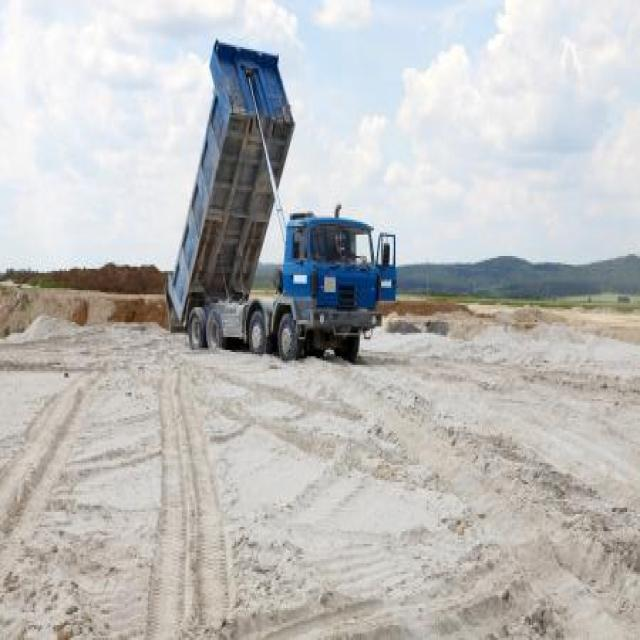Camion volquete: (164, 37, 398, 364)
